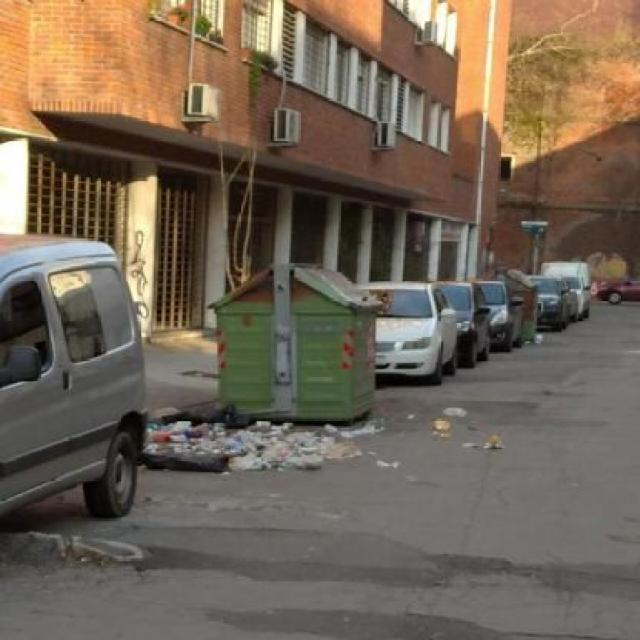garbage: (120, 395, 384, 490), (409, 388, 533, 486), (531, 315, 564, 362)
